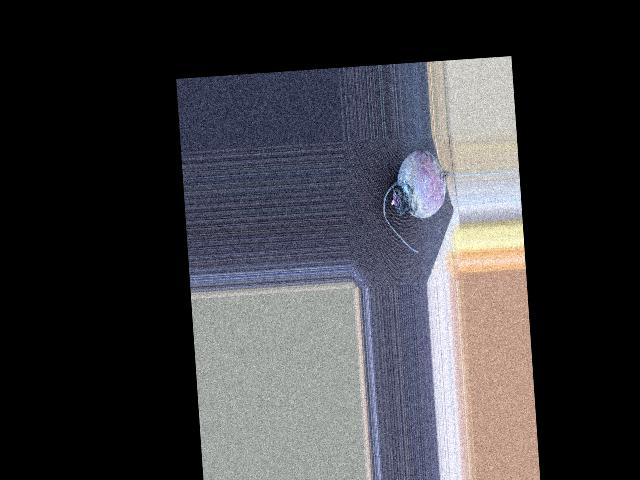beet: (378, 147, 461, 254)
